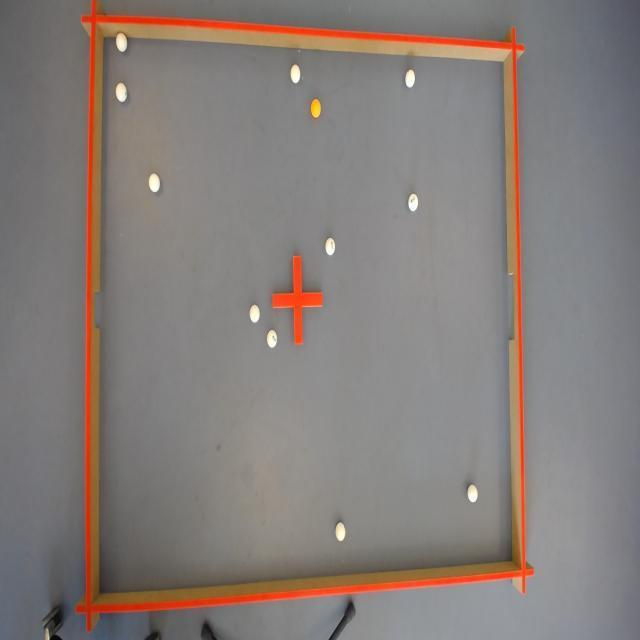orange: (308, 96, 322, 118)
white: (116, 83, 130, 104), (148, 171, 161, 192), (266, 328, 279, 349), (335, 520, 347, 540), (467, 482, 479, 502), (407, 192, 419, 212), (290, 62, 302, 82), (248, 302, 259, 322), (324, 236, 336, 254), (116, 35, 128, 52), (404, 67, 414, 87)
